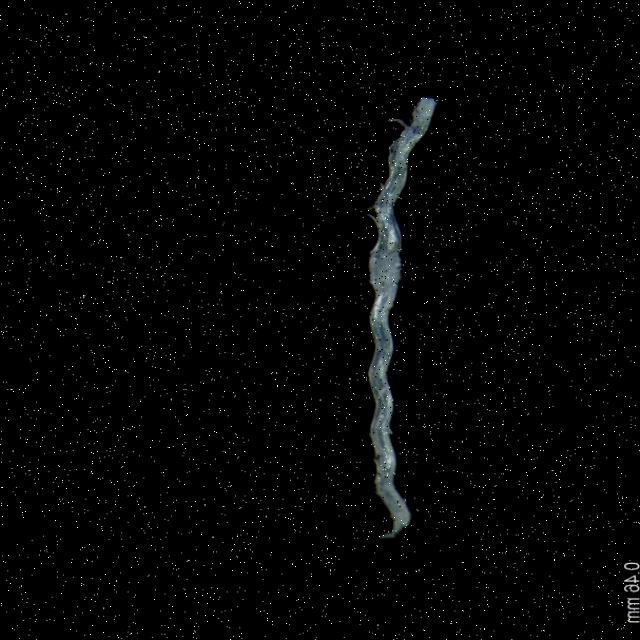Fibre: (367, 90, 445, 540)
